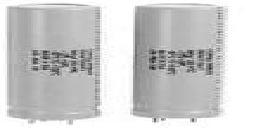Electrolytic-Capacitor: (5, 3, 109, 128), (128, 2, 226, 126)
